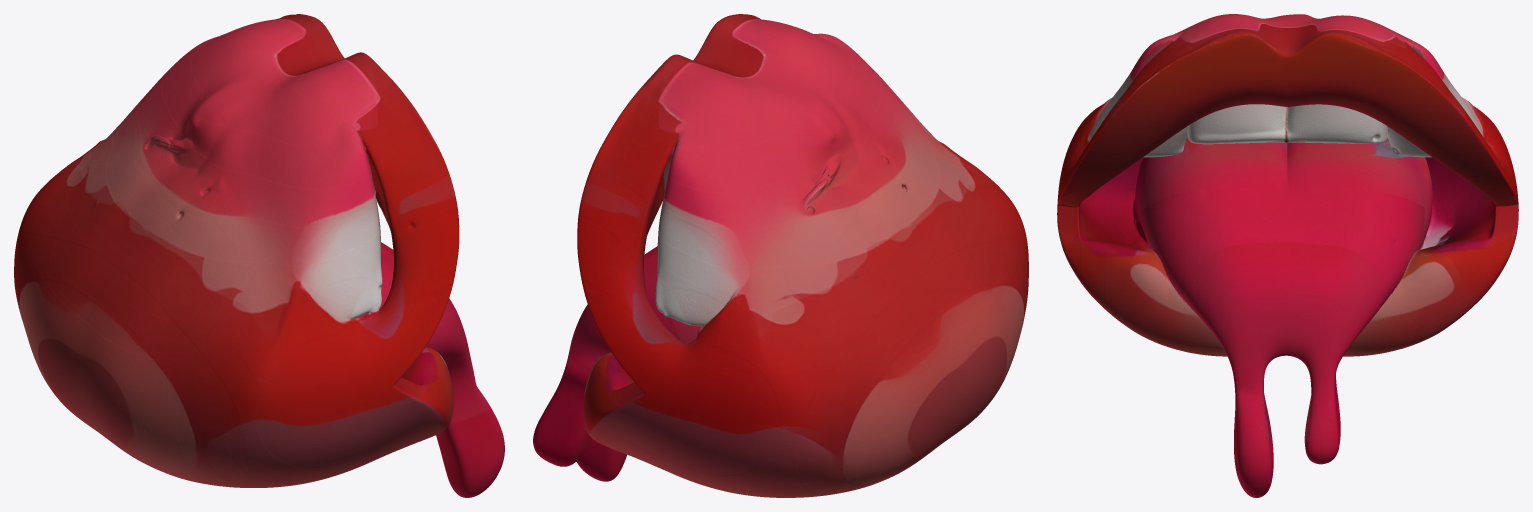
File: LIPS.glb
3 views of the same model, side by side, from view 1: azimuth 30°, elevation 25°; view 2: azimuth 150°, elevation 25°; view 3: azimuth 270°, elevation 25° (orthographic). The views are drawn at different scales.
Bounding box in the file's own units: 5.47 × 6.09 × 6.12.
1 material, 1 textured.
